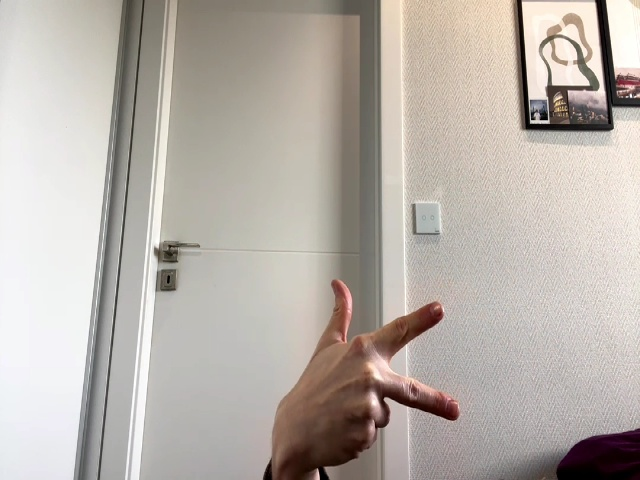K: (295, 279, 460, 460)
